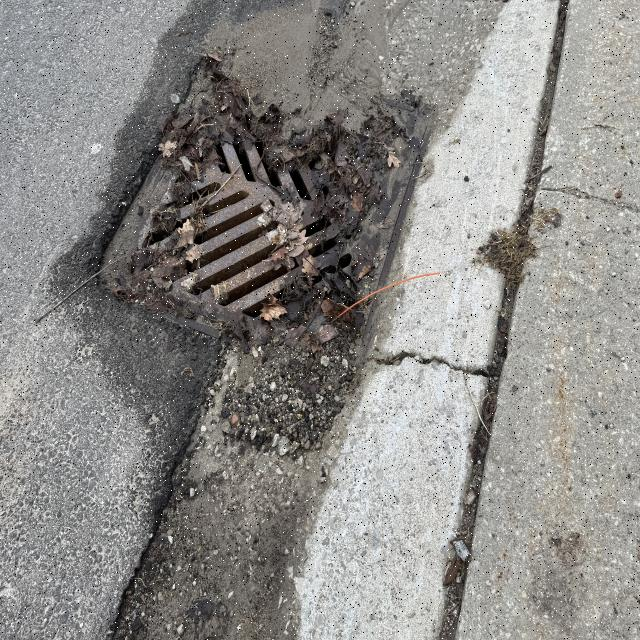Manhole: (126, 57, 417, 330)
